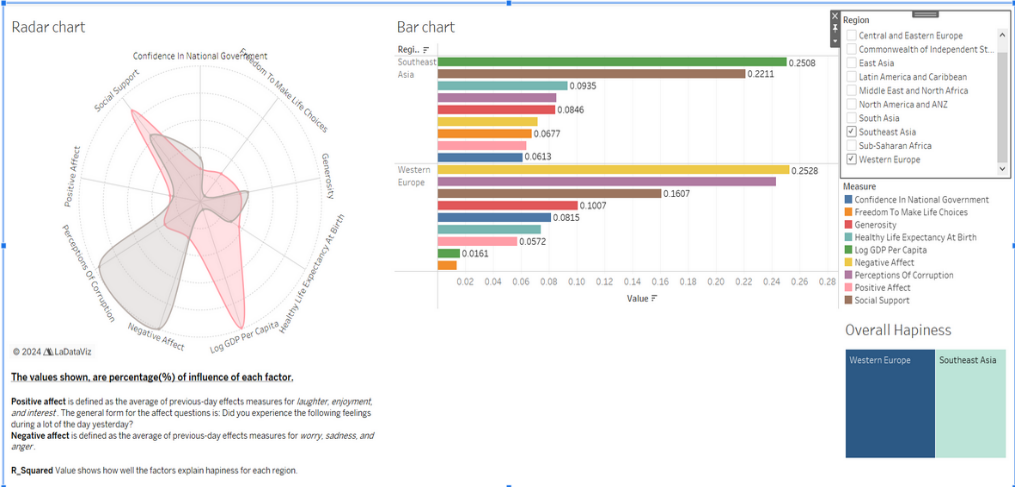

This screenshot's page, from the dashboard's own definition file:
{"tool":"tableau","page":{"name":"Dashboard 1","canvas":[1000,1000],"units":"permille","ordinal":0},"visuals":[{"type":"worksheet","title":"Sheet 1","box":[4.8,9.9,369.3,720.1]},{"type":"worksheet","title":"Sheet 2","mark":"Automatic","rows":["Region","Pivot Field Names"],"cols":["Pivot Field Values"],"box":[374.2,9.9,430.3,980.3]},{"type":"filter","title":"Sheet 1","param":"[federated.10x0gbs129h94719plneh1vltgmb].[none:Region:nk]","box":[804.5,9.9,190.7,342.8]},{"type":"legend","title":"Sheet 2","param":"[federated.10x0gbs129h94719plneh1vltgmb].[none:Pivot Field Names:nk]","box":[804.5,352.6,190.7,281.1]},{"type":"worksheet","title":"Sheet 3","mark":"Automatic","box":[804.5,633.8,190.7,316.9]},{"type":"text","box":[4.8,730,369.3,260.2]}]}

Visuals, with their boxes on the dashboard's canvas, which has no fixed pixel size, in thousandths of its width and height (x1, y1, x2, y2). These are canvas units, not pixel positions in the 1015x487 screenshot, which may show the page scaled, cropped or inside an application window:
"Sheet 1" worksheet: (x1=5, y1=10, x2=374, y2=730)
"Sheet 2" worksheet: (x1=374, y1=10, x2=804, y2=990)
"Sheet 1" filter: (x1=804, y1=10, x2=995, y2=353)
"Sheet 2" legend: (x1=804, y1=353, x2=995, y2=634)
"Sheet 3" worksheet: (x1=804, y1=634, x2=995, y2=951)
text: (x1=5, y1=730, x2=374, y2=990)
